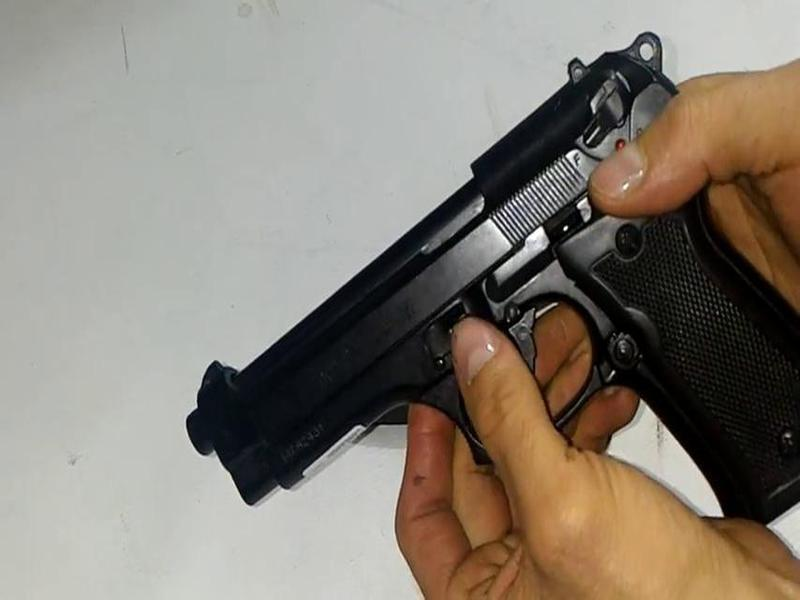Pistola: (164, 29, 791, 550)
